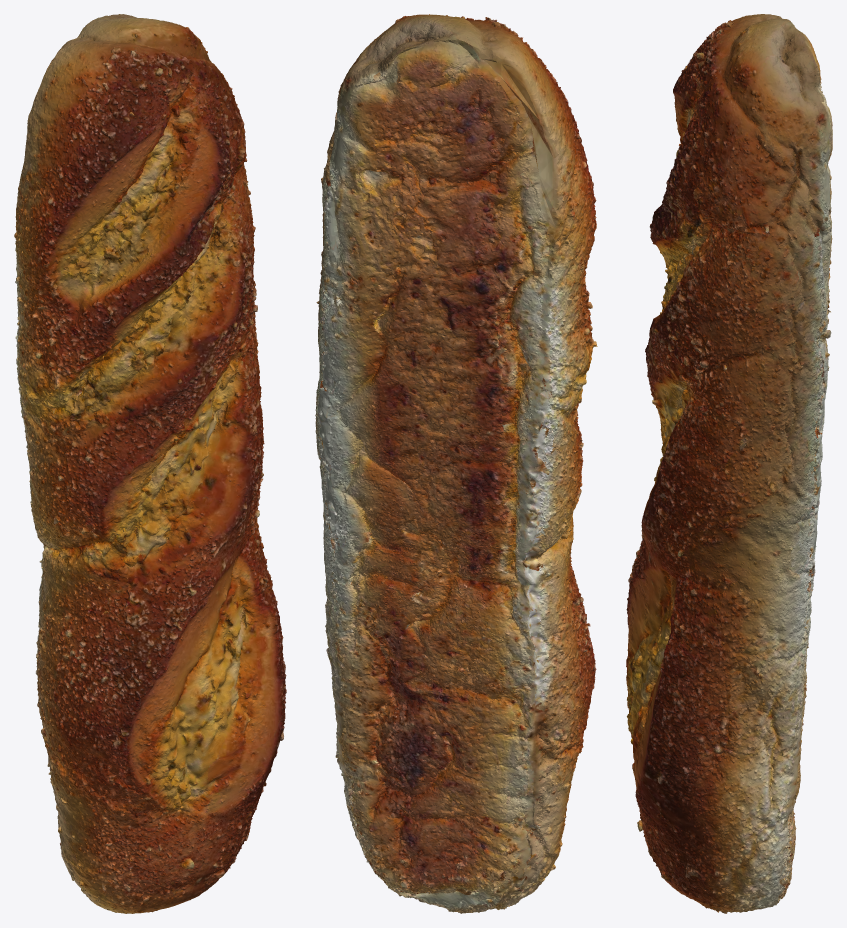
Rendered from home_loc3.glb.
3 views of the same model, side by side, from view 1: azimuth 30°, elevation 25°; view 2: azimuth 150°, elevation 25°; view 3: azimuth 270°, elevation 25° (orthographic). The views are drawn at different scales.
Parts seen in each view (by area): view 1: garlic_bread; view 2: garlic_bread; view 3: garlic_bread.
Part boxes in pixels (bbox=[...]): garlic_bread: bbox=[14, 14, 286, 913]; garlic_bread: bbox=[315, 14, 597, 913]; garlic_bread: bbox=[626, 14, 832, 913].
Bounding box in the file's own units: 0.0675 × 0.2353 × 0.0506.
1 material, 1 textured.
